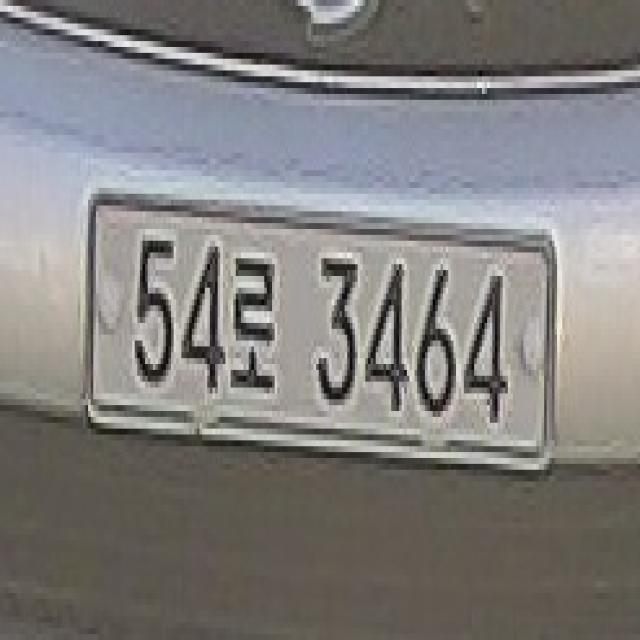3: (308, 223, 366, 435)
4: (461, 240, 518, 470), (179, 205, 238, 422), (365, 229, 407, 429)
5: (116, 206, 182, 411)
6: (412, 223, 461, 452)
license_plate: (72, 182, 568, 528)
lo: (220, 235, 285, 399)
